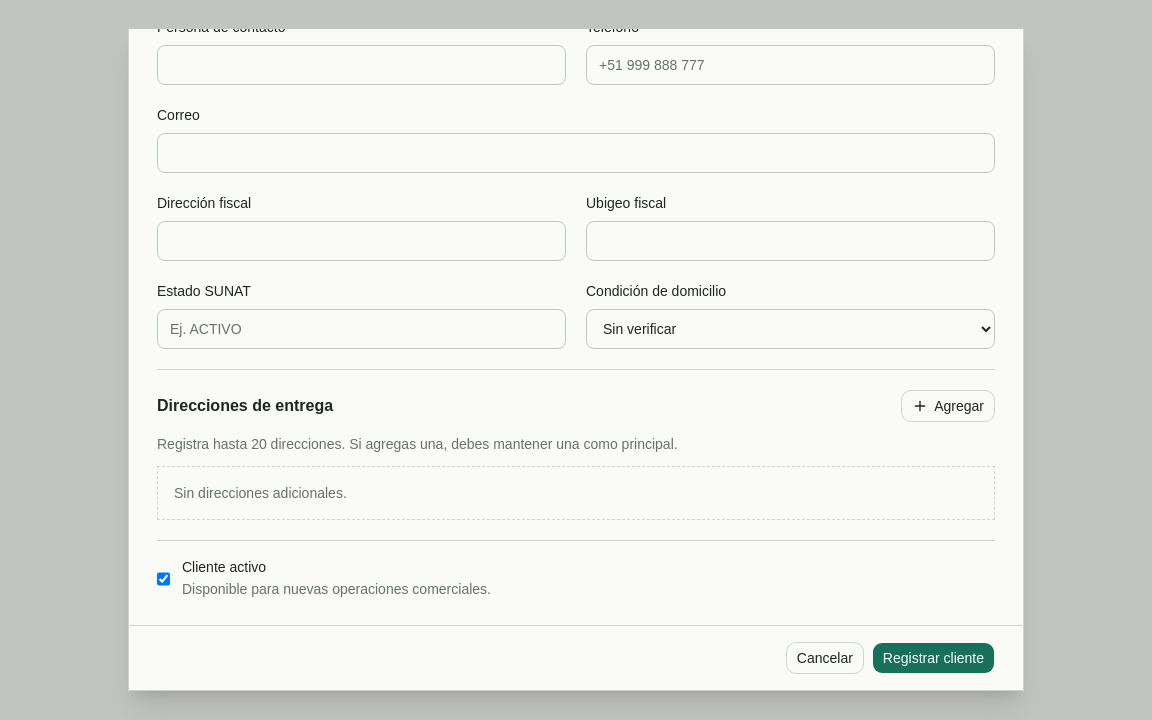
Scenario: DialogoCliente › muestra un resumen visible y enfoca el primer campo inválido
This screenshot has width=1152, height=720.
(page scrolled)
Click the button "Registrar cliente" at (933, 658), box [872,642,995,674]
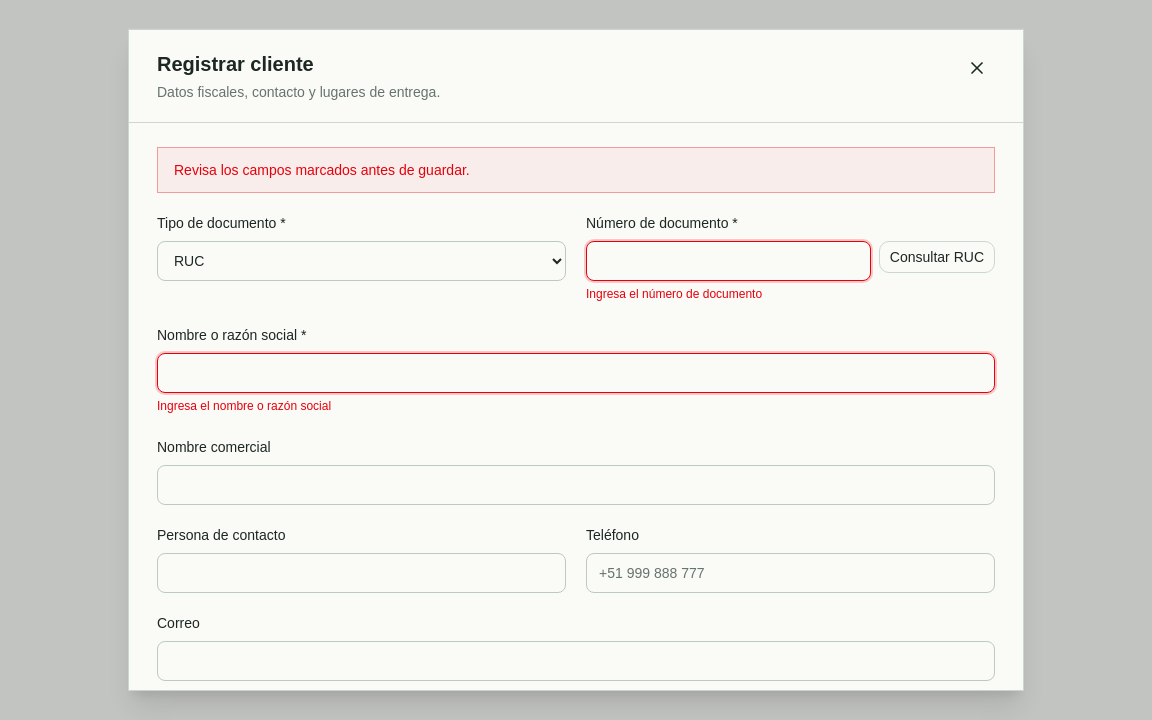
Now the text "Revisa los campos marcados antes de guardar." is shown, box [174,162,470,178]
